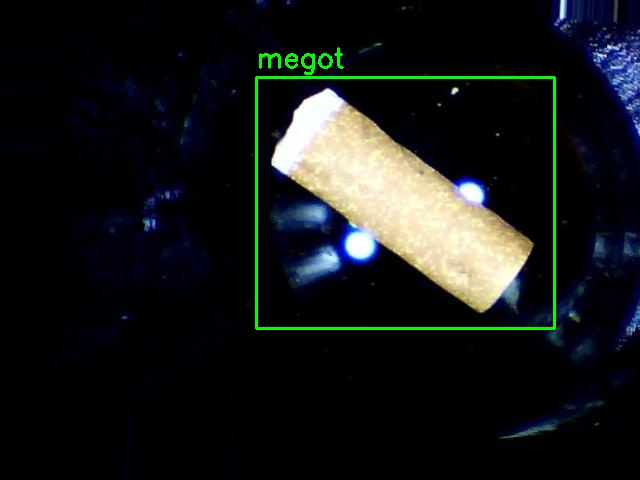megot: (256, 77, 554, 328)
